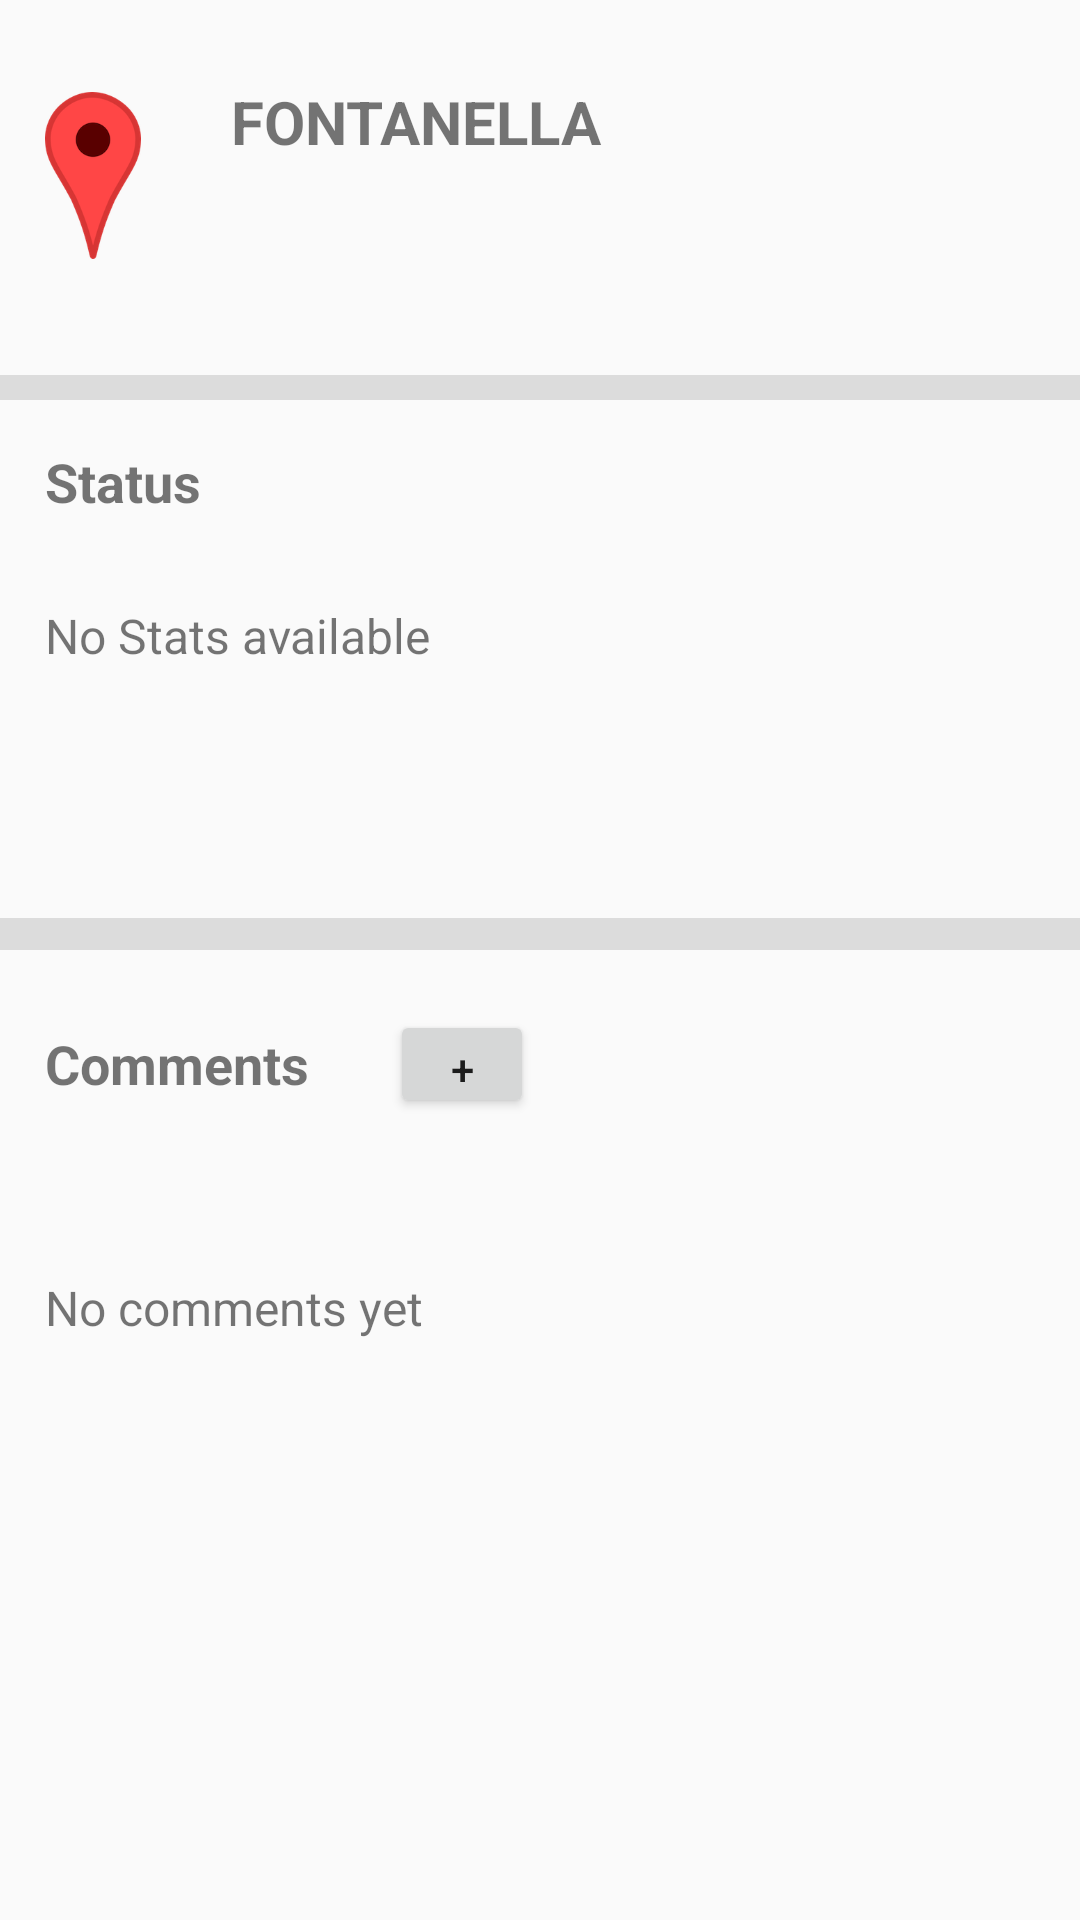

Locate icon controls on the screen. Image size 1080 x 1920, boxes as [x1,y1,x2,y2].
mappin: [45,92,141,259]
